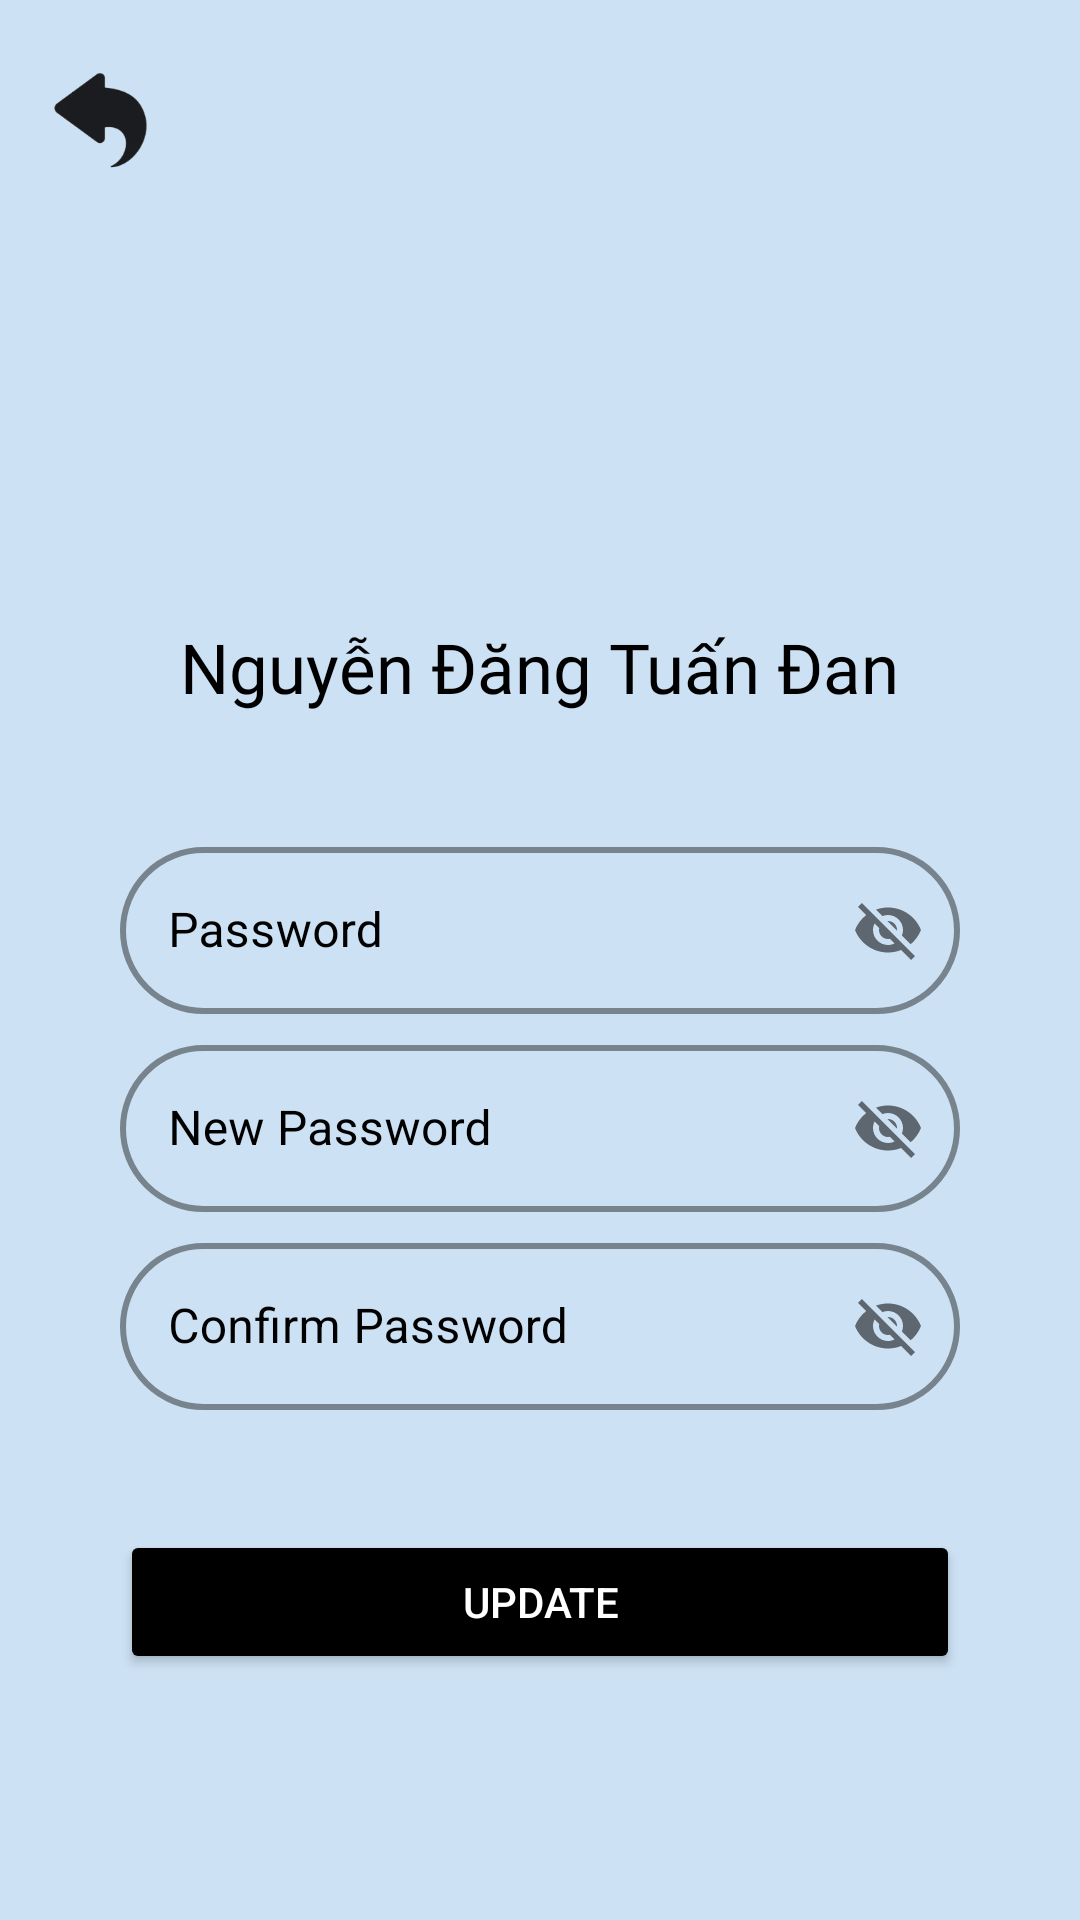

Icons on this 1080w x 1920h Android screen, each with its box as (x1, y1, x2, y2):
backk: (54, 73, 147, 168)
